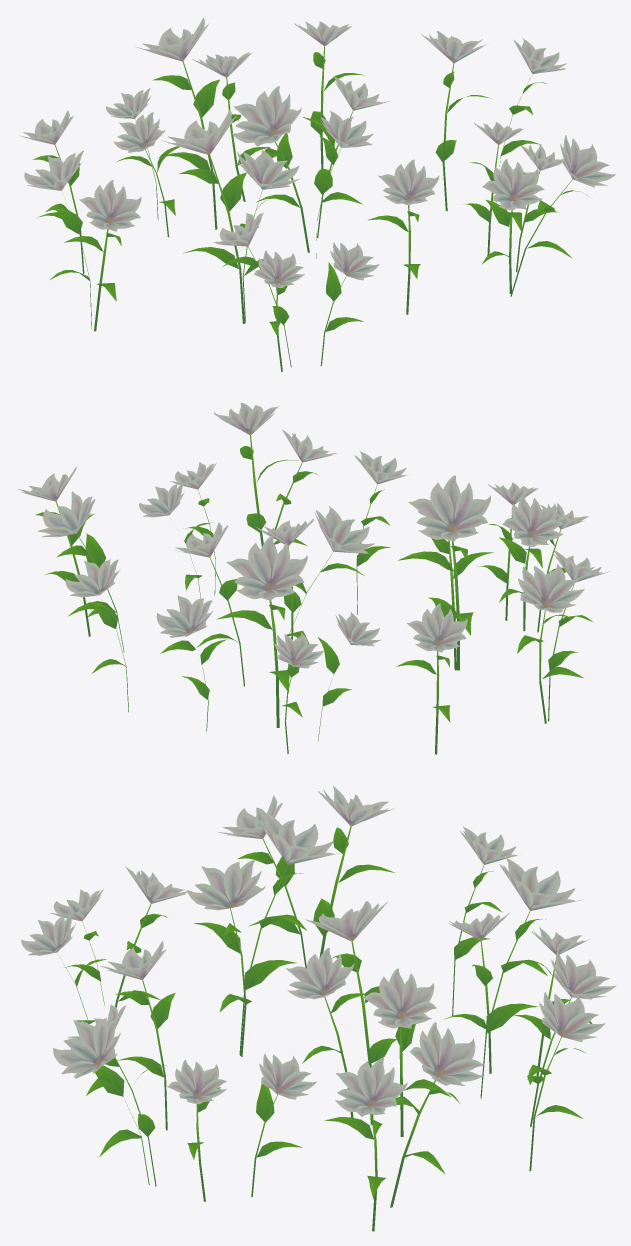
The model's file is SM_FlowerGroup_09.fbx.
3 views of the same model, one above another, from view 1: azimuth 30°, elevation 25°; view 2: azimuth 150°, elevation 25°; view 3: azimuth 270°, elevation 25° (orthographic). The views are drawn at different scales.
Parts seen in each view (by area): view 1: SM_FlowerGroup_09; view 2: SM_FlowerGroup_09; view 3: SM_FlowerGroup_09.
Boxes of the visible parts, x1,y1,x2,y2 form: SM_FlowerGroup_09: (19,17,615,371); SM_FlowerGroup_09: (17,402,609,754); SM_FlowerGroup_09: (21,786,616,1231).
Size of the model in its own units: 288 by 100 by 234.
